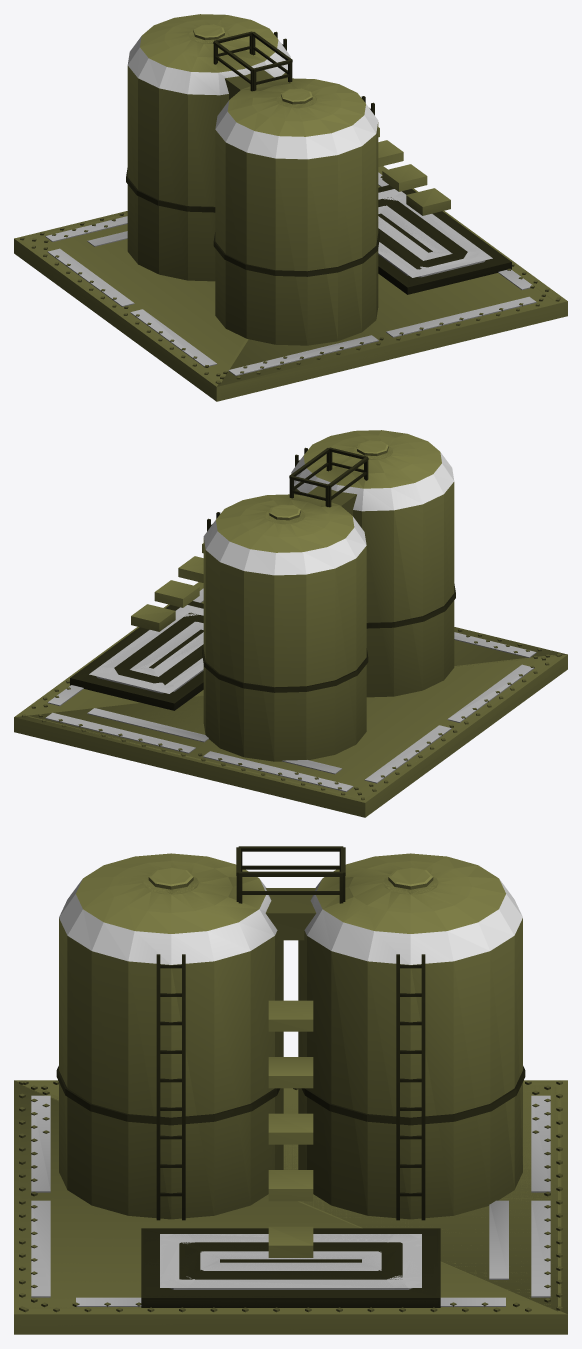
Rendered from meridian_ore_silo.glb.
3 renders of one model, top to bottom at view 1: azimuth 30°, elevation 25°; view 2: azimuth 150°, elevation 25°; view 3: azimuth 270°, elevation 25°, orthographic. The views are drawn at different scales.
Parts seen in each view (by area): view 1: body (×3); view 2: body (×3); view 3: body (×3).
Boxes of the visible parts, x1=… form: body (×3): x1=14, y1=14, x2=567, y2=401; body (×3): x1=14, y1=430, x2=567, y2=817; body (×3): x1=14, y1=846, x2=567, y2=1334.
Size of the model in its own units: 7.4 by 4.9 by 7.4.
